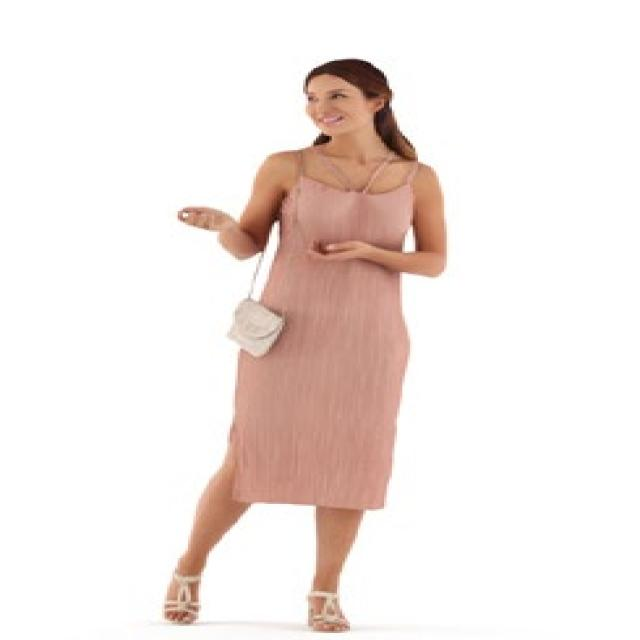standing: (161, 57, 453, 640)
